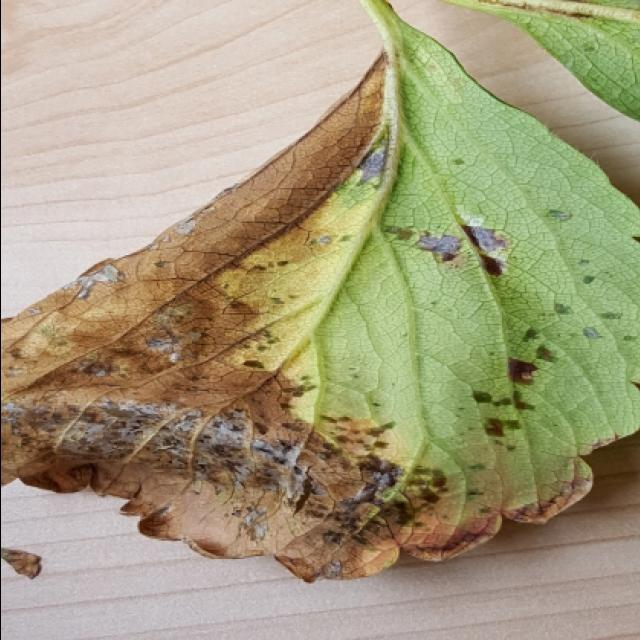Angular Leafspot: (2, 14, 640, 587)
